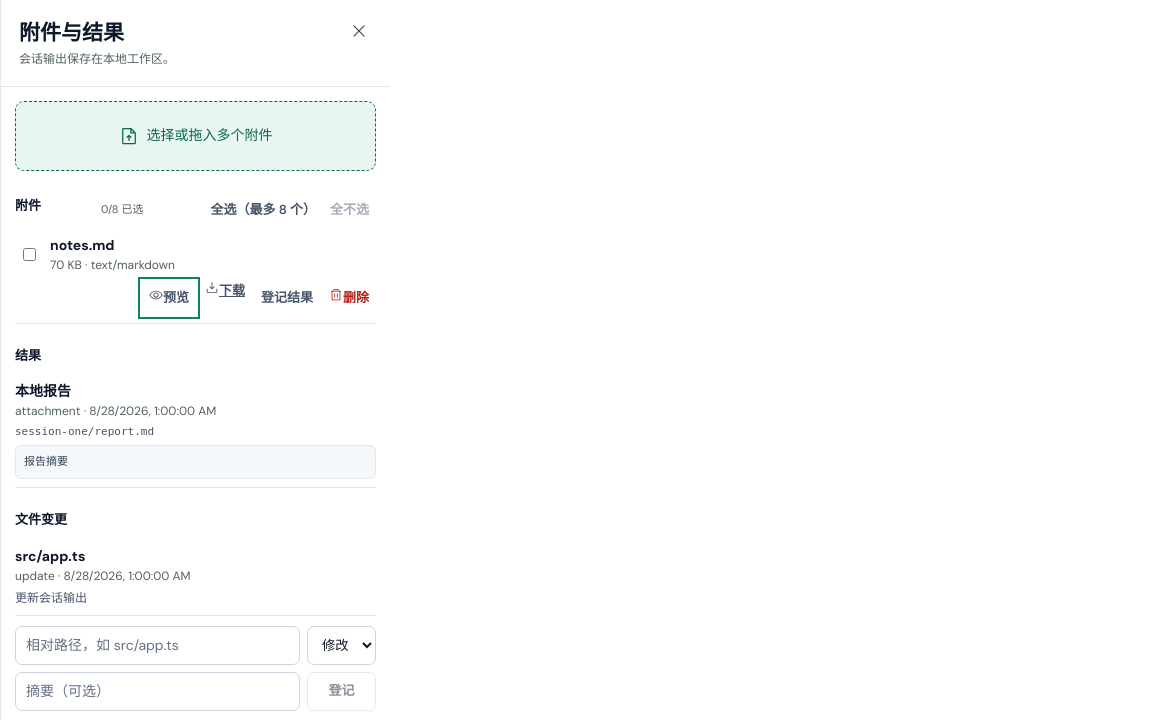
SessionOutputsPanel › 安全截断文本预览，展示结果路径与文件变更详情，并用 Escape 恢复焦点
Expected: the text "报告摘要" is shown, [15, 444, 376, 479]
Expected: the text "session-one/report.md" is shown, [15, 425, 154, 438]
Click the button "预览". click: (169, 298)
box: [142, 280, 196, 314]
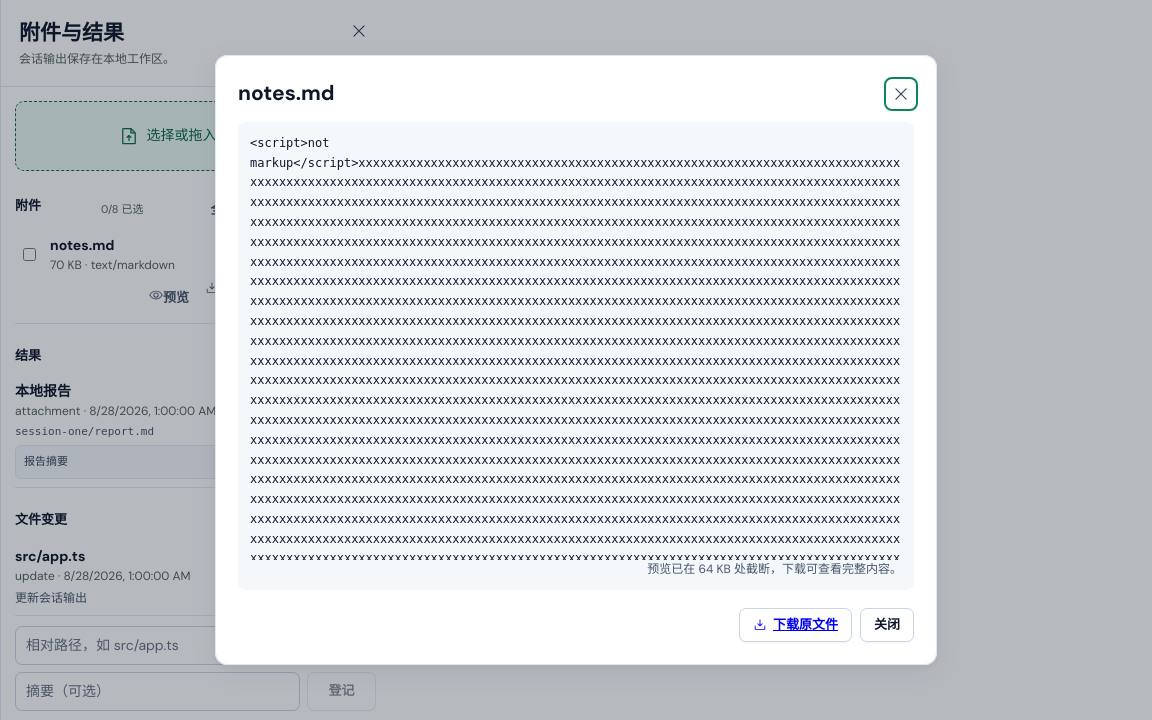
Result: the text "预览已在 64 KB 处截断，下载可查看完整内容。" is shown at [647, 560, 902, 578]
Press Escape
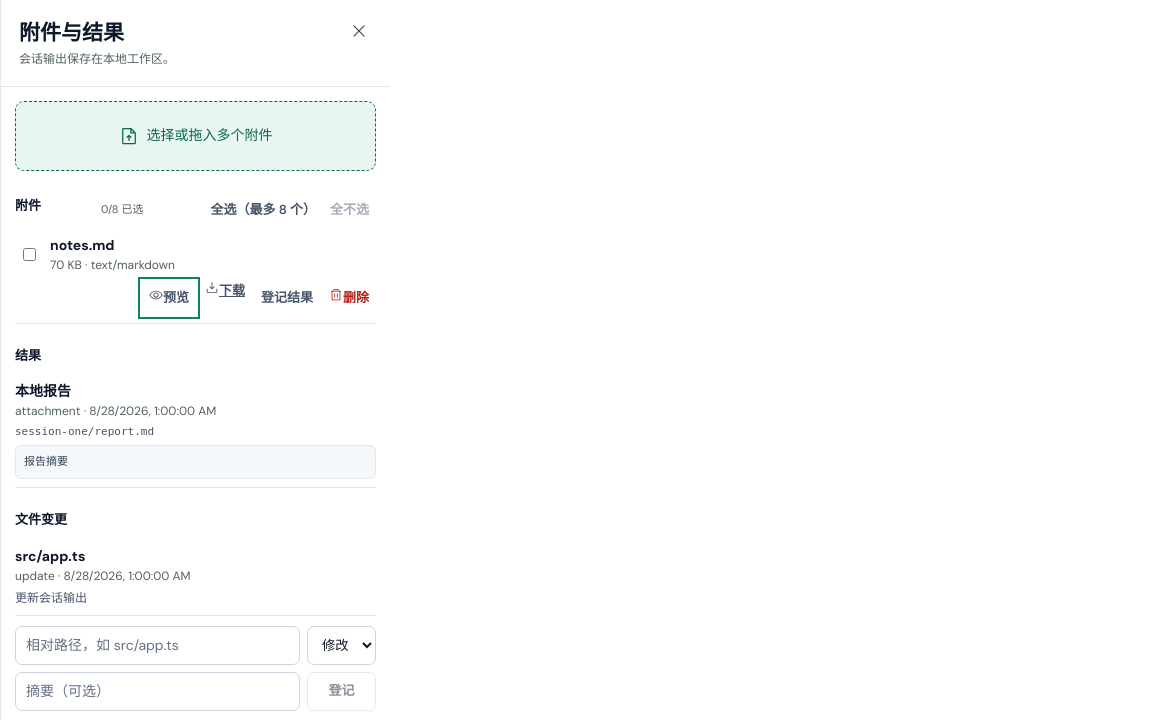
Result: the dialog is gone
